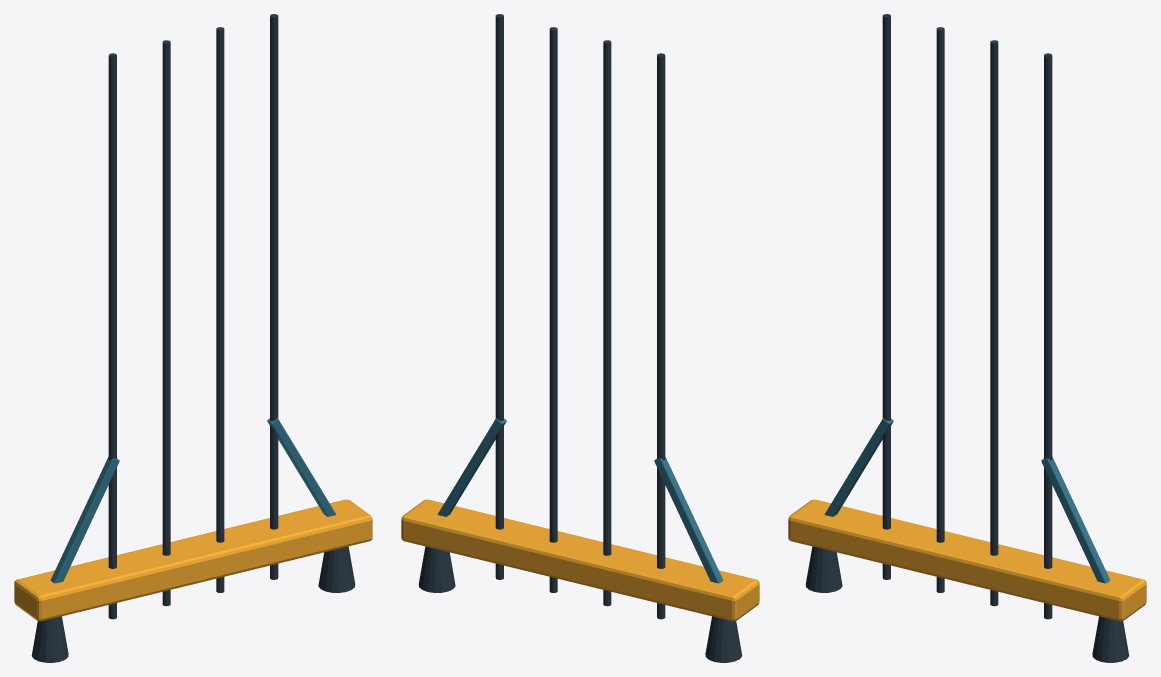
Rendered from gantry-hoist-high.glb.
The picture shows the model from 3 angles, left to right: view 1: azimuth 30°, elevation 25°; view 2: azimuth 150°, elevation 25°; view 3: azimuth 330°, elevation 25°; orthographic projection.
Parts seen in each view (by area): view 1: lifting_beam, hoist_cable.002, hoist_cable.001, hoist_cable.003, hoist_cable, beam_sling, lifting_hook, lifting_hook.001, beam_sling.001; view 2: lifting_beam, hoist_cable.002, hoist_cable.001, hoist_cable.003, hoist_cable, beam_sling, lifting_hook, lifting_hook.001, beam_sling.001; view 3: lifting_beam, hoist_cable.001, hoist_cable.002, hoist_cable, hoist_cable.003, beam_sling.001, lifting_hook.001, lifting_hook, beam_sling.
Boxes of the visible parts, bbox=[...] form: lifting_beam: bbox=[14, 499, 372, 621]; hoist_cable.002: bbox=[216, 27, 224, 592]; hoist_cable.001: bbox=[162, 40, 170, 606]; hoist_cable.003: bbox=[270, 14, 278, 579]; hoist_cable: bbox=[108, 53, 116, 619]; beam_sling: bbox=[50, 457, 119, 583]; lifting_hook: bbox=[31, 616, 68, 662]; lifting_hook.001: bbox=[318, 546, 355, 592]; beam_sling.001: bbox=[267, 418, 336, 516]; lifting_beam: bbox=[401, 499, 759, 621]; hoist_cable.002: bbox=[549, 27, 557, 592]; hoist_cable.001: bbox=[603, 40, 611, 606]; hoist_cable.003: bbox=[495, 14, 503, 579]; hoist_cable: bbox=[657, 53, 665, 619]; beam_sling: bbox=[654, 457, 723, 583]; lifting_hook: bbox=[705, 616, 742, 662]; lifting_hook.001: bbox=[418, 546, 455, 592]; beam_sling.001: bbox=[437, 418, 506, 516]; lifting_beam: bbox=[788, 499, 1146, 621]; hoist_cable.001: bbox=[936, 27, 944, 592]; hoist_cable.002: bbox=[990, 40, 998, 606]; hoist_cable: bbox=[882, 14, 890, 579]; hoist_cable.003: bbox=[1044, 53, 1052, 619]; beam_sling.001: bbox=[1041, 457, 1110, 583]; lifting_hook.001: bbox=[1092, 616, 1129, 662]; lifting_hook: bbox=[805, 546, 842, 592]; beam_sling: bbox=[824, 418, 893, 516].
Size of the model in its own units: 7.5 by 12.47 by 1.
